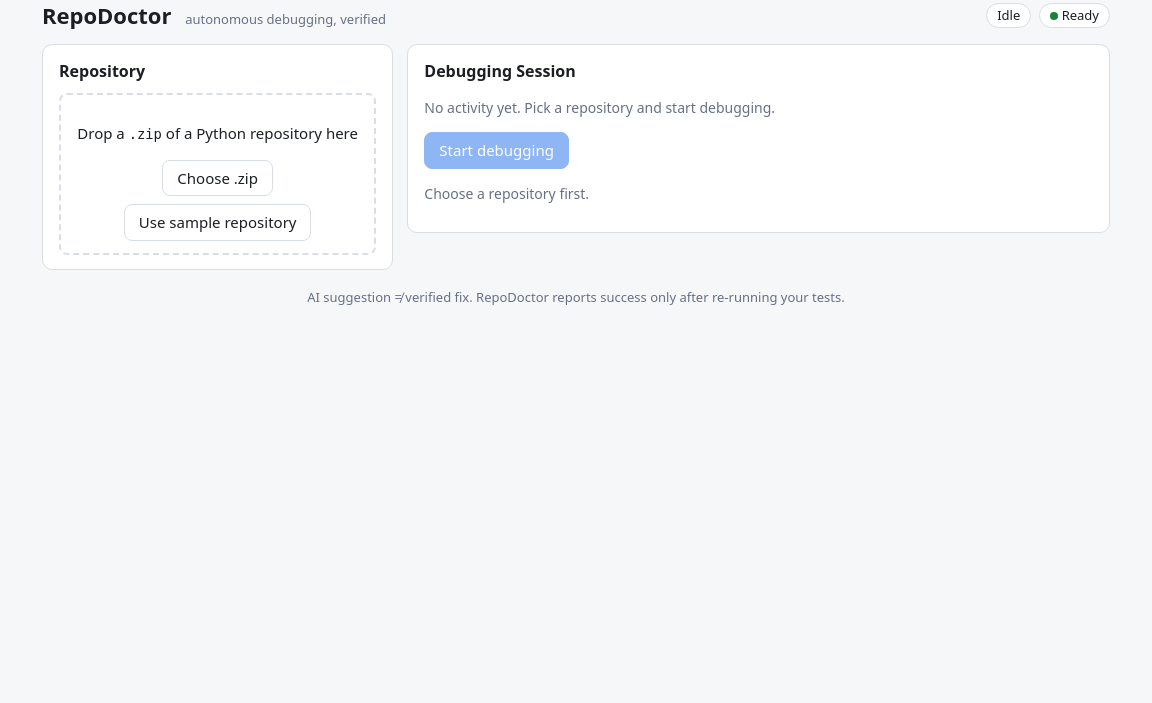
Test: the happy path › shows live progress, requires approval, locks the buttons while applying, then confirms
The image size is (1152, 703).
Later steps or results of the test are not shown.
Click the button "Use sample repository". click: point(218, 222)
box: [124,204,311,241]
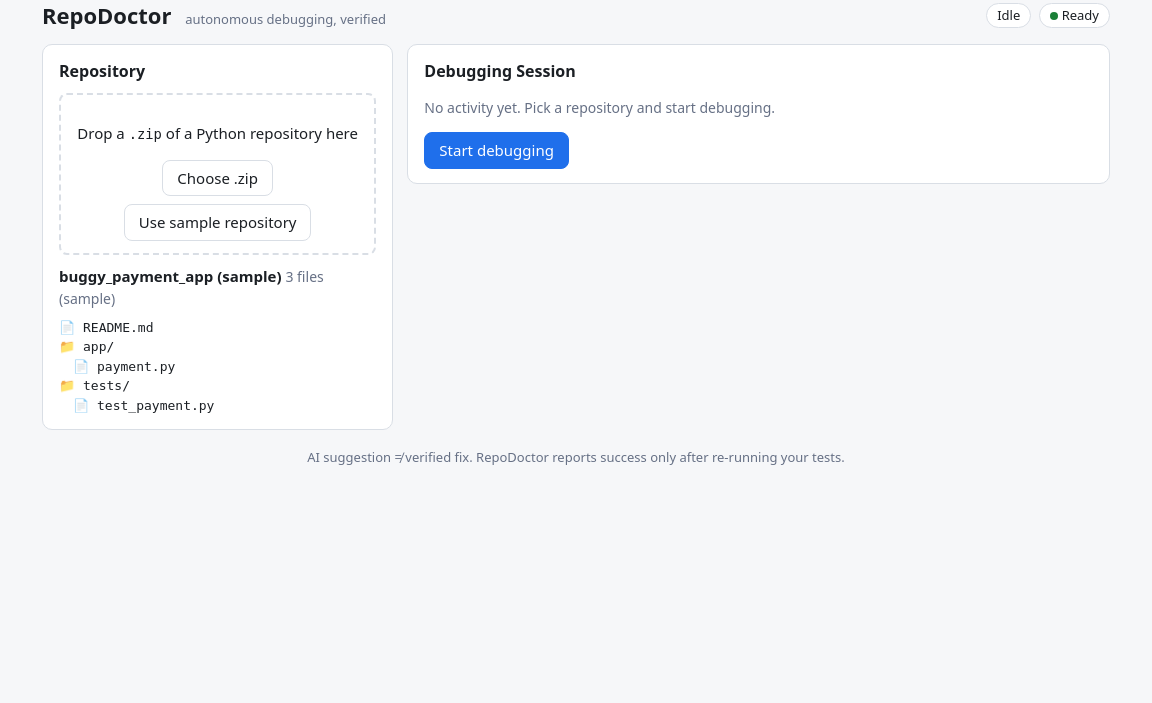
Expected: the list named "Repository files" is shown, [59,320,214,413]
Click the button "Start debugging". click: point(497, 150)
box: [424,132,569,168]
(page scrolled)
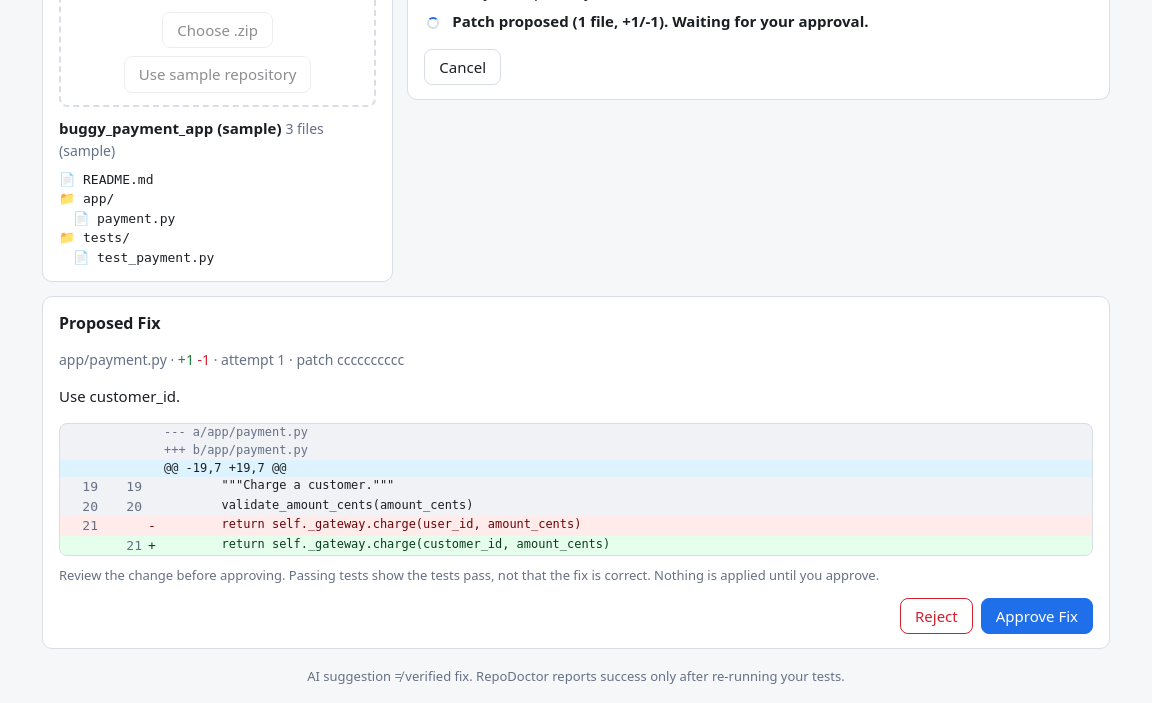
Expected: the button "Approve Fix" is shown
Expected: the heading "Proposed Fix" is shown, [59,312,160,334]
Expected: the text "return self._gateway.charge(user_id, amount_cents)" is shown, [164,518,581,532]
Click the button "Approve Fix". click: point(1037, 616)
box: [981,598,1093,634]
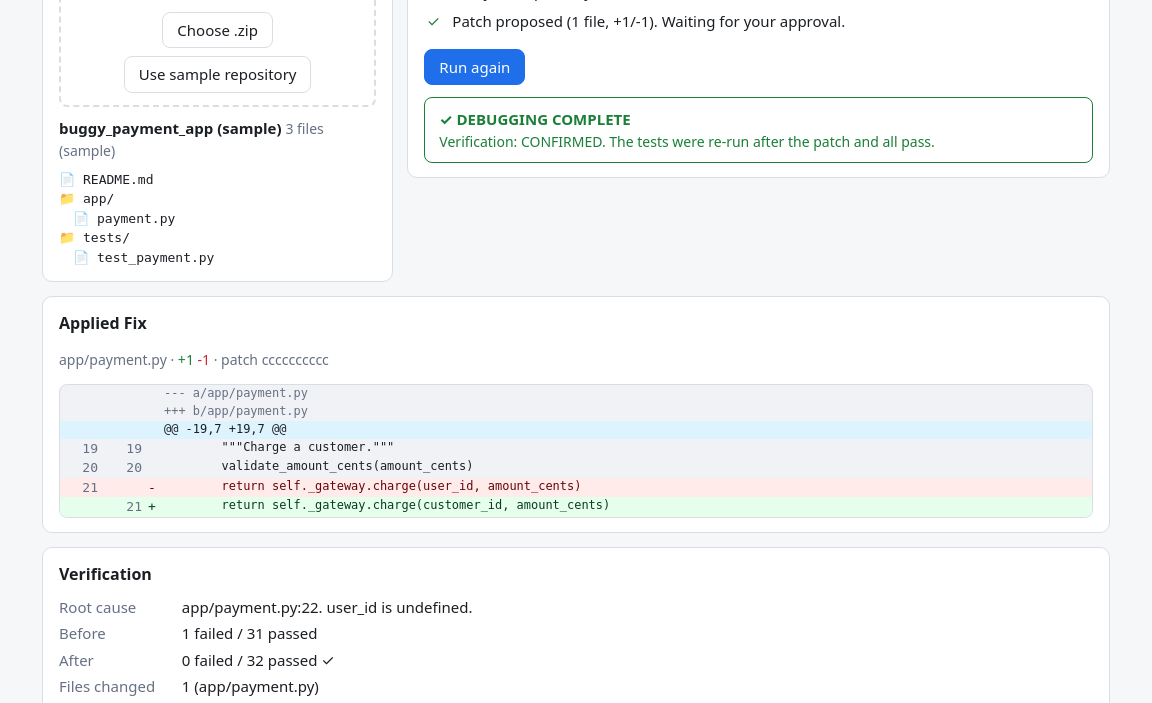
Expected: the message with test id "outcome" shows "DEBUGGING COMPLETE", [456,109,631,129]
Expected: the message with test id "outcome" shows "CONFIRMED", [439,132,935,150]
Expected: the text with test id "before" reads "1 failed / 31 passed", [182,624,317,644]
